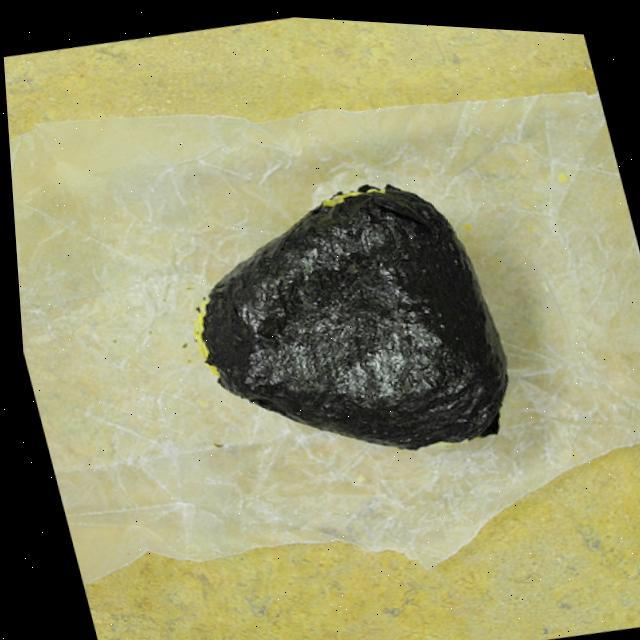米饭主食: (124, 135, 513, 505)
